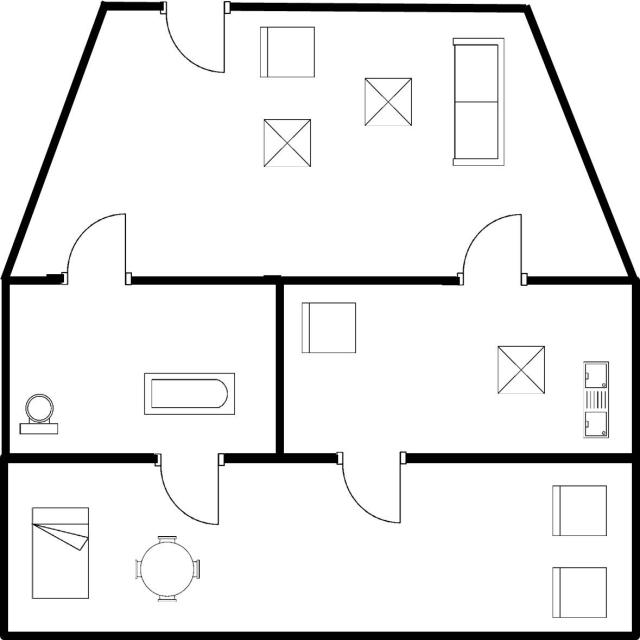bed: (26, 503, 94, 603)
coffee_table: (360, 74, 420, 132), (258, 114, 316, 170), (491, 341, 549, 397)
large_sink: (17, 391, 62, 438)
large_sofa: (446, 32, 506, 170)
round_table: (128, 531, 204, 607)
small_sofa: (546, 482, 612, 542), (542, 562, 610, 620), (296, 296, 358, 358), (255, 23, 320, 80)
tub: (138, 368, 238, 420)
twin_sink: (577, 354, 615, 443)
